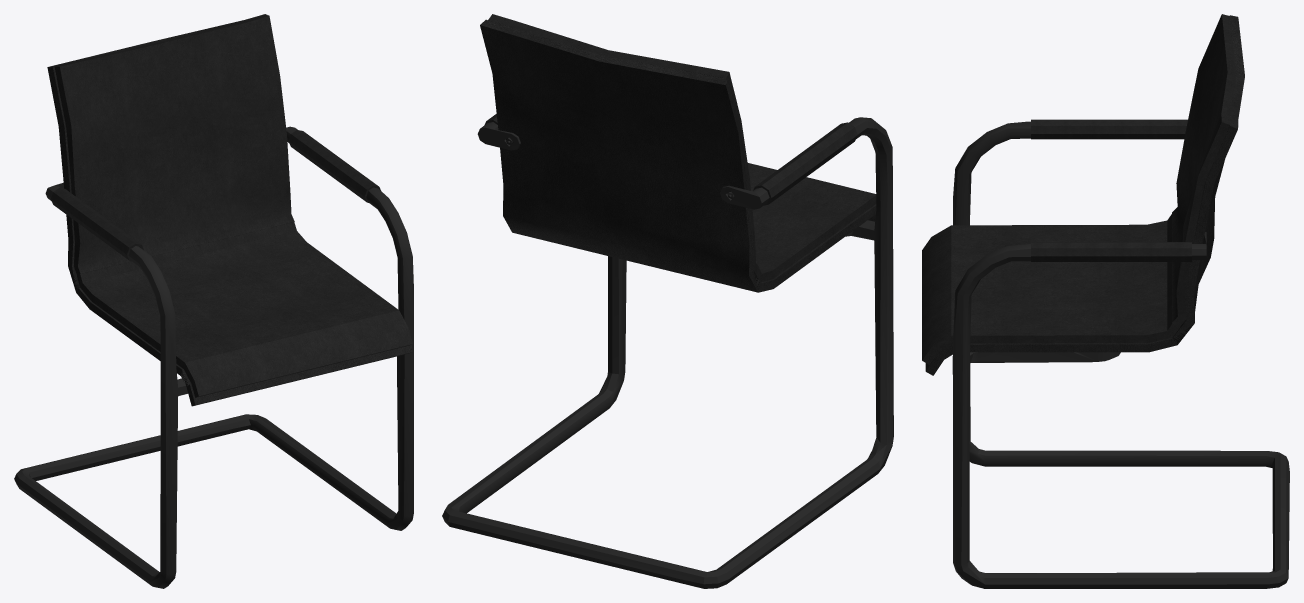
The model's file is chair1.FBX.
The picture shows the model from 3 angles, left to right: view 1: azimuth 30°, elevation 25°; view 2: azimuth 150°, elevation 25°; view 3: azimuth 270°, elevation 25°; orthographic projection. The views are drawn at different scales.
Parts seen in each view (by area): view 1: chair; view 2: chair; view 3: chair.
Part boxes in pixels (x1=…): chair: x1=14, y1=14, x2=413, y2=588; chair: x1=442, y1=14, x2=893, y2=588; chair: x1=922, y1=14, x2=1289, y2=588.
Size of the model in its own units: 551 by 651 by 898.
2 materials, 1 textured.
